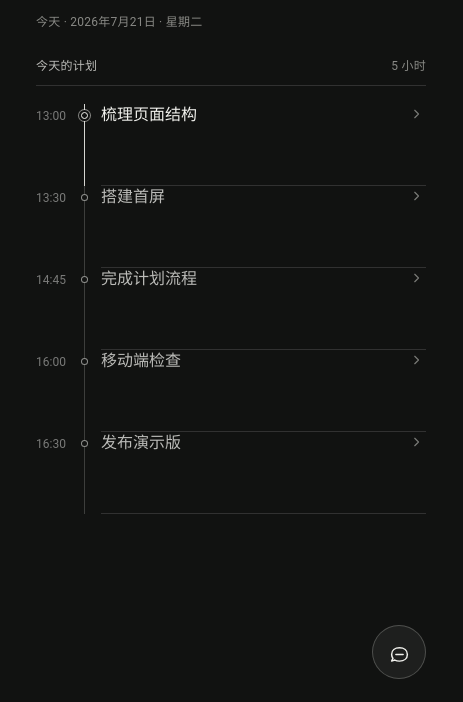
Scenario: production Hermes MVP interface › preserves input after an error and permits retry
Click the button named "打开对话". click: (399, 652)
box: [372,625,426,679]
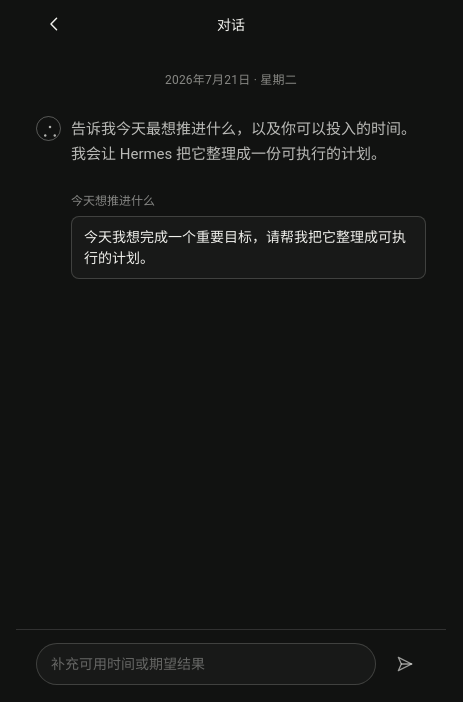
Replace the text in the text box labelled "今天想推进什么" with "完成联调". click: (248, 247)
box: [71,216,426,278]
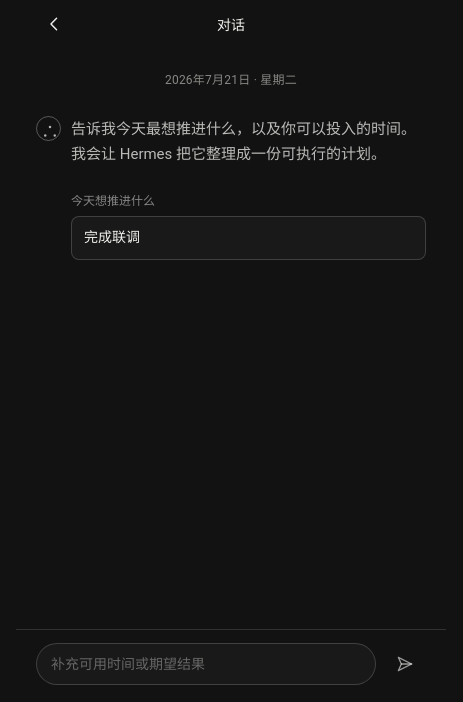
Type "保留两个小时" into the text box named "补充你的安排". click: (206, 664)
box: [36,643,376,685]
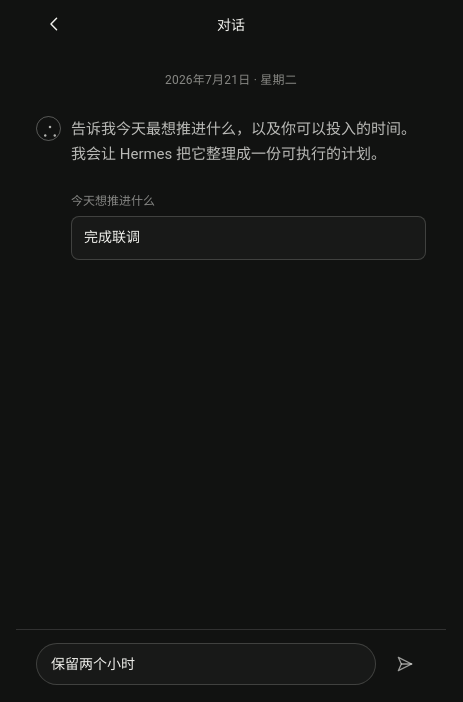
Click the button named "发送". click: (405, 664)
box: [384,643,426,685]
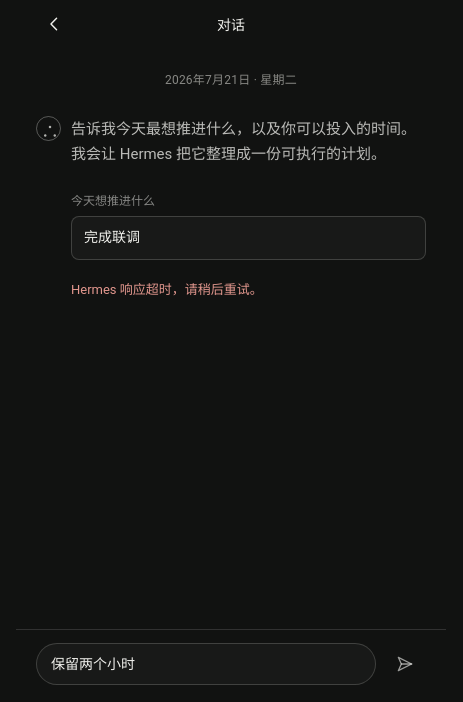
Expected: the text "Hermes 响应超时，请稍后重试。" is shown, [71,282,263,296]
Click the button named "发送". click: (405, 664)
box: [384,643,426,685]
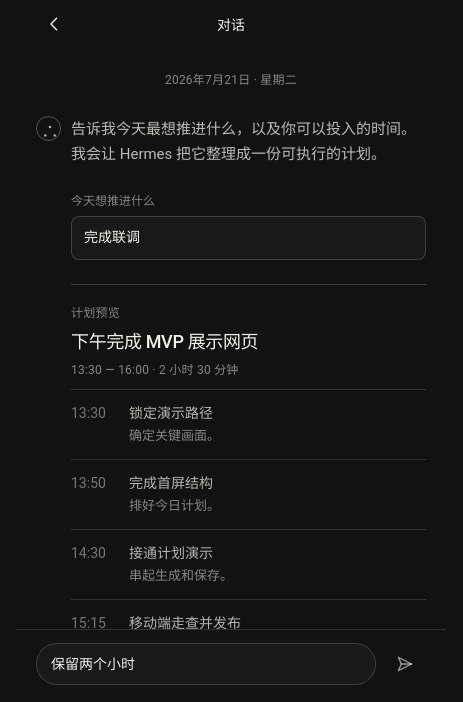
Expected: the text "计划预览" is shown, [71,306,120,320]
